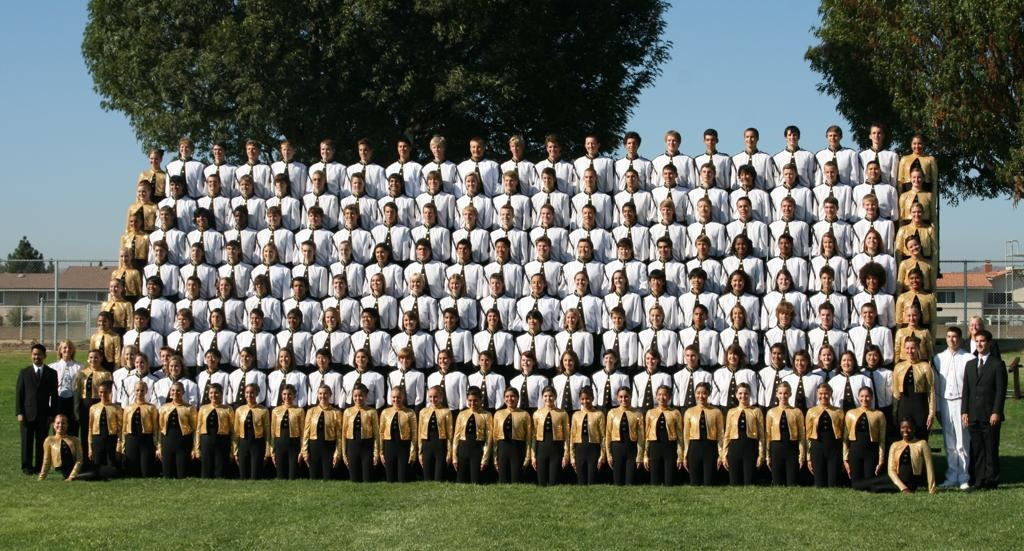human_face: (904, 239, 920, 255), (314, 352, 328, 370), (402, 312, 416, 330), (776, 384, 790, 402), (694, 385, 708, 403), (770, 346, 784, 364), (864, 270, 878, 288), (690, 271, 704, 289), (778, 235, 792, 253), (576, 240, 590, 258), (974, 334, 988, 352), (866, 162, 880, 180), (864, 231, 878, 249), (176, 310, 190, 328), (358, 142, 372, 160), (736, 199, 750, 217), (739, 167, 753, 185), (840, 352, 852, 372), (693, 306, 705, 326), (508, 140, 522, 157), (684, 348, 696, 367), (824, 163, 836, 182), (360, 311, 374, 327), (816, 387, 830, 403), (904, 309, 918, 325), (374, 246, 388, 262), (502, 174, 516, 190), (624, 136, 638, 152), (696, 200, 710, 216), (278, 350, 290, 368), (437, 350, 449, 368), (478, 352, 490, 370), (656, 387, 668, 405), (617, 388, 629, 406), (645, 352, 657, 370), (727, 346, 739, 364), (820, 346, 832, 364), (862, 304, 874, 322), (900, 420, 912, 438), (779, 306, 791, 324), (778, 271, 790, 289), (649, 308, 661, 326), (650, 272, 662, 290), (734, 237, 746, 255), (618, 241, 630, 259), (575, 272, 587, 290), (910, 204, 922, 222), (870, 125, 882, 143), (822, 234, 834, 252), (824, 200, 836, 218), (292, 278, 304, 296), (410, 274, 422, 292), (301, 243, 313, 261), (267, 208, 279, 226), (233, 208, 245, 226), (312, 173, 324, 191), (344, 206, 356, 224), (495, 240, 507, 258), (585, 136, 597, 154), (541, 170, 553, 188), (546, 138, 558, 156), (783, 166, 795, 184), (744, 128, 756, 146), (666, 133, 678, 151), (240, 349, 252, 366), (398, 349, 410, 366), (737, 385, 749, 402), (826, 128, 838, 145), (97, 314, 109, 331), (146, 278, 158, 295), (457, 241, 469, 258), (416, 241, 428, 258), (238, 177, 250, 194), (398, 140, 410, 157), (431, 140, 443, 157), (470, 140, 482, 157), (500, 207, 512, 224), (466, 394, 480, 408), (194, 213, 208, 227), (134, 356, 146, 372), (54, 416, 66, 432), (244, 386, 256, 402), (208, 386, 220, 402), (170, 384, 182, 400), (168, 359, 180, 375), (206, 352, 218, 368), (355, 351, 367, 367), (504, 390, 516, 406), (428, 389, 440, 405), (391, 390, 403, 406), (521, 354, 533, 370), (563, 354, 575, 370), (565, 311, 577, 327), (527, 313, 539, 329), (486, 310, 498, 326), (444, 311, 456, 327), (794, 354, 806, 370), (820, 309, 832, 325), (858, 389, 870, 405), (909, 273, 921, 289), (731, 274, 743, 290), (611, 311, 623, 327), (612, 272, 624, 288), (657, 240, 669, 256), (968, 318, 980, 334), (946, 331, 958, 347), (910, 170, 922, 186), (864, 199, 876, 215), (134, 312, 146, 328), (108, 280, 120, 296), (219, 278, 231, 294), (153, 244, 165, 260), (448, 277, 460, 293), (370, 274, 382, 290), (332, 277, 344, 293), (338, 243, 350, 259), (136, 185, 148, 201), (148, 152, 160, 168), (178, 140, 190, 156), (212, 142, 224, 158), (263, 246, 275, 262), (320, 143, 332, 159), (351, 176, 363, 192), (422, 206, 434, 222), (531, 276, 543, 292), (490, 277, 502, 293), (462, 208, 474, 224), (465, 175, 477, 191), (786, 129, 798, 145), (704, 133, 716, 149), (701, 166, 713, 182), (660, 203, 672, 219), (625, 171, 637, 187), (663, 167, 675, 183), (88, 351, 100, 366), (866, 350, 878, 365), (696, 237, 708, 252), (911, 136, 923, 151), (245, 143, 257, 158), (281, 143, 293, 158), (206, 176, 218, 191), (389, 176, 401, 191), (384, 205, 394, 223), (584, 169, 594, 187), (540, 207, 552, 222), (186, 278, 196, 295), (60, 343, 72, 357), (353, 390, 365, 404), (317, 388, 329, 402), (282, 389, 294, 403), (542, 390, 554, 404), (904, 342, 916, 356), (210, 312, 222, 326), (254, 278, 266, 292), (119, 251, 131, 265), (128, 216, 140, 230), (324, 312, 336, 326), (159, 210, 171, 224), (226, 244, 238, 258), (428, 174, 440, 188), (308, 210, 320, 224), (537, 241, 549, 255), (32, 348, 42, 364), (124, 346, 134, 362), (160, 350, 170, 366), (134, 383, 144, 399), (98, 384, 108, 400), (820, 270, 830, 286), (288, 312, 298, 328), (250, 312, 260, 328), (170, 178, 180, 194), (275, 176, 285, 192), (191, 244, 201, 260), (582, 207, 592, 223), (782, 200, 792, 216), (622, 206, 632, 221), (604, 352, 614, 366), (732, 308, 742, 322), (580, 394, 590, 406)
